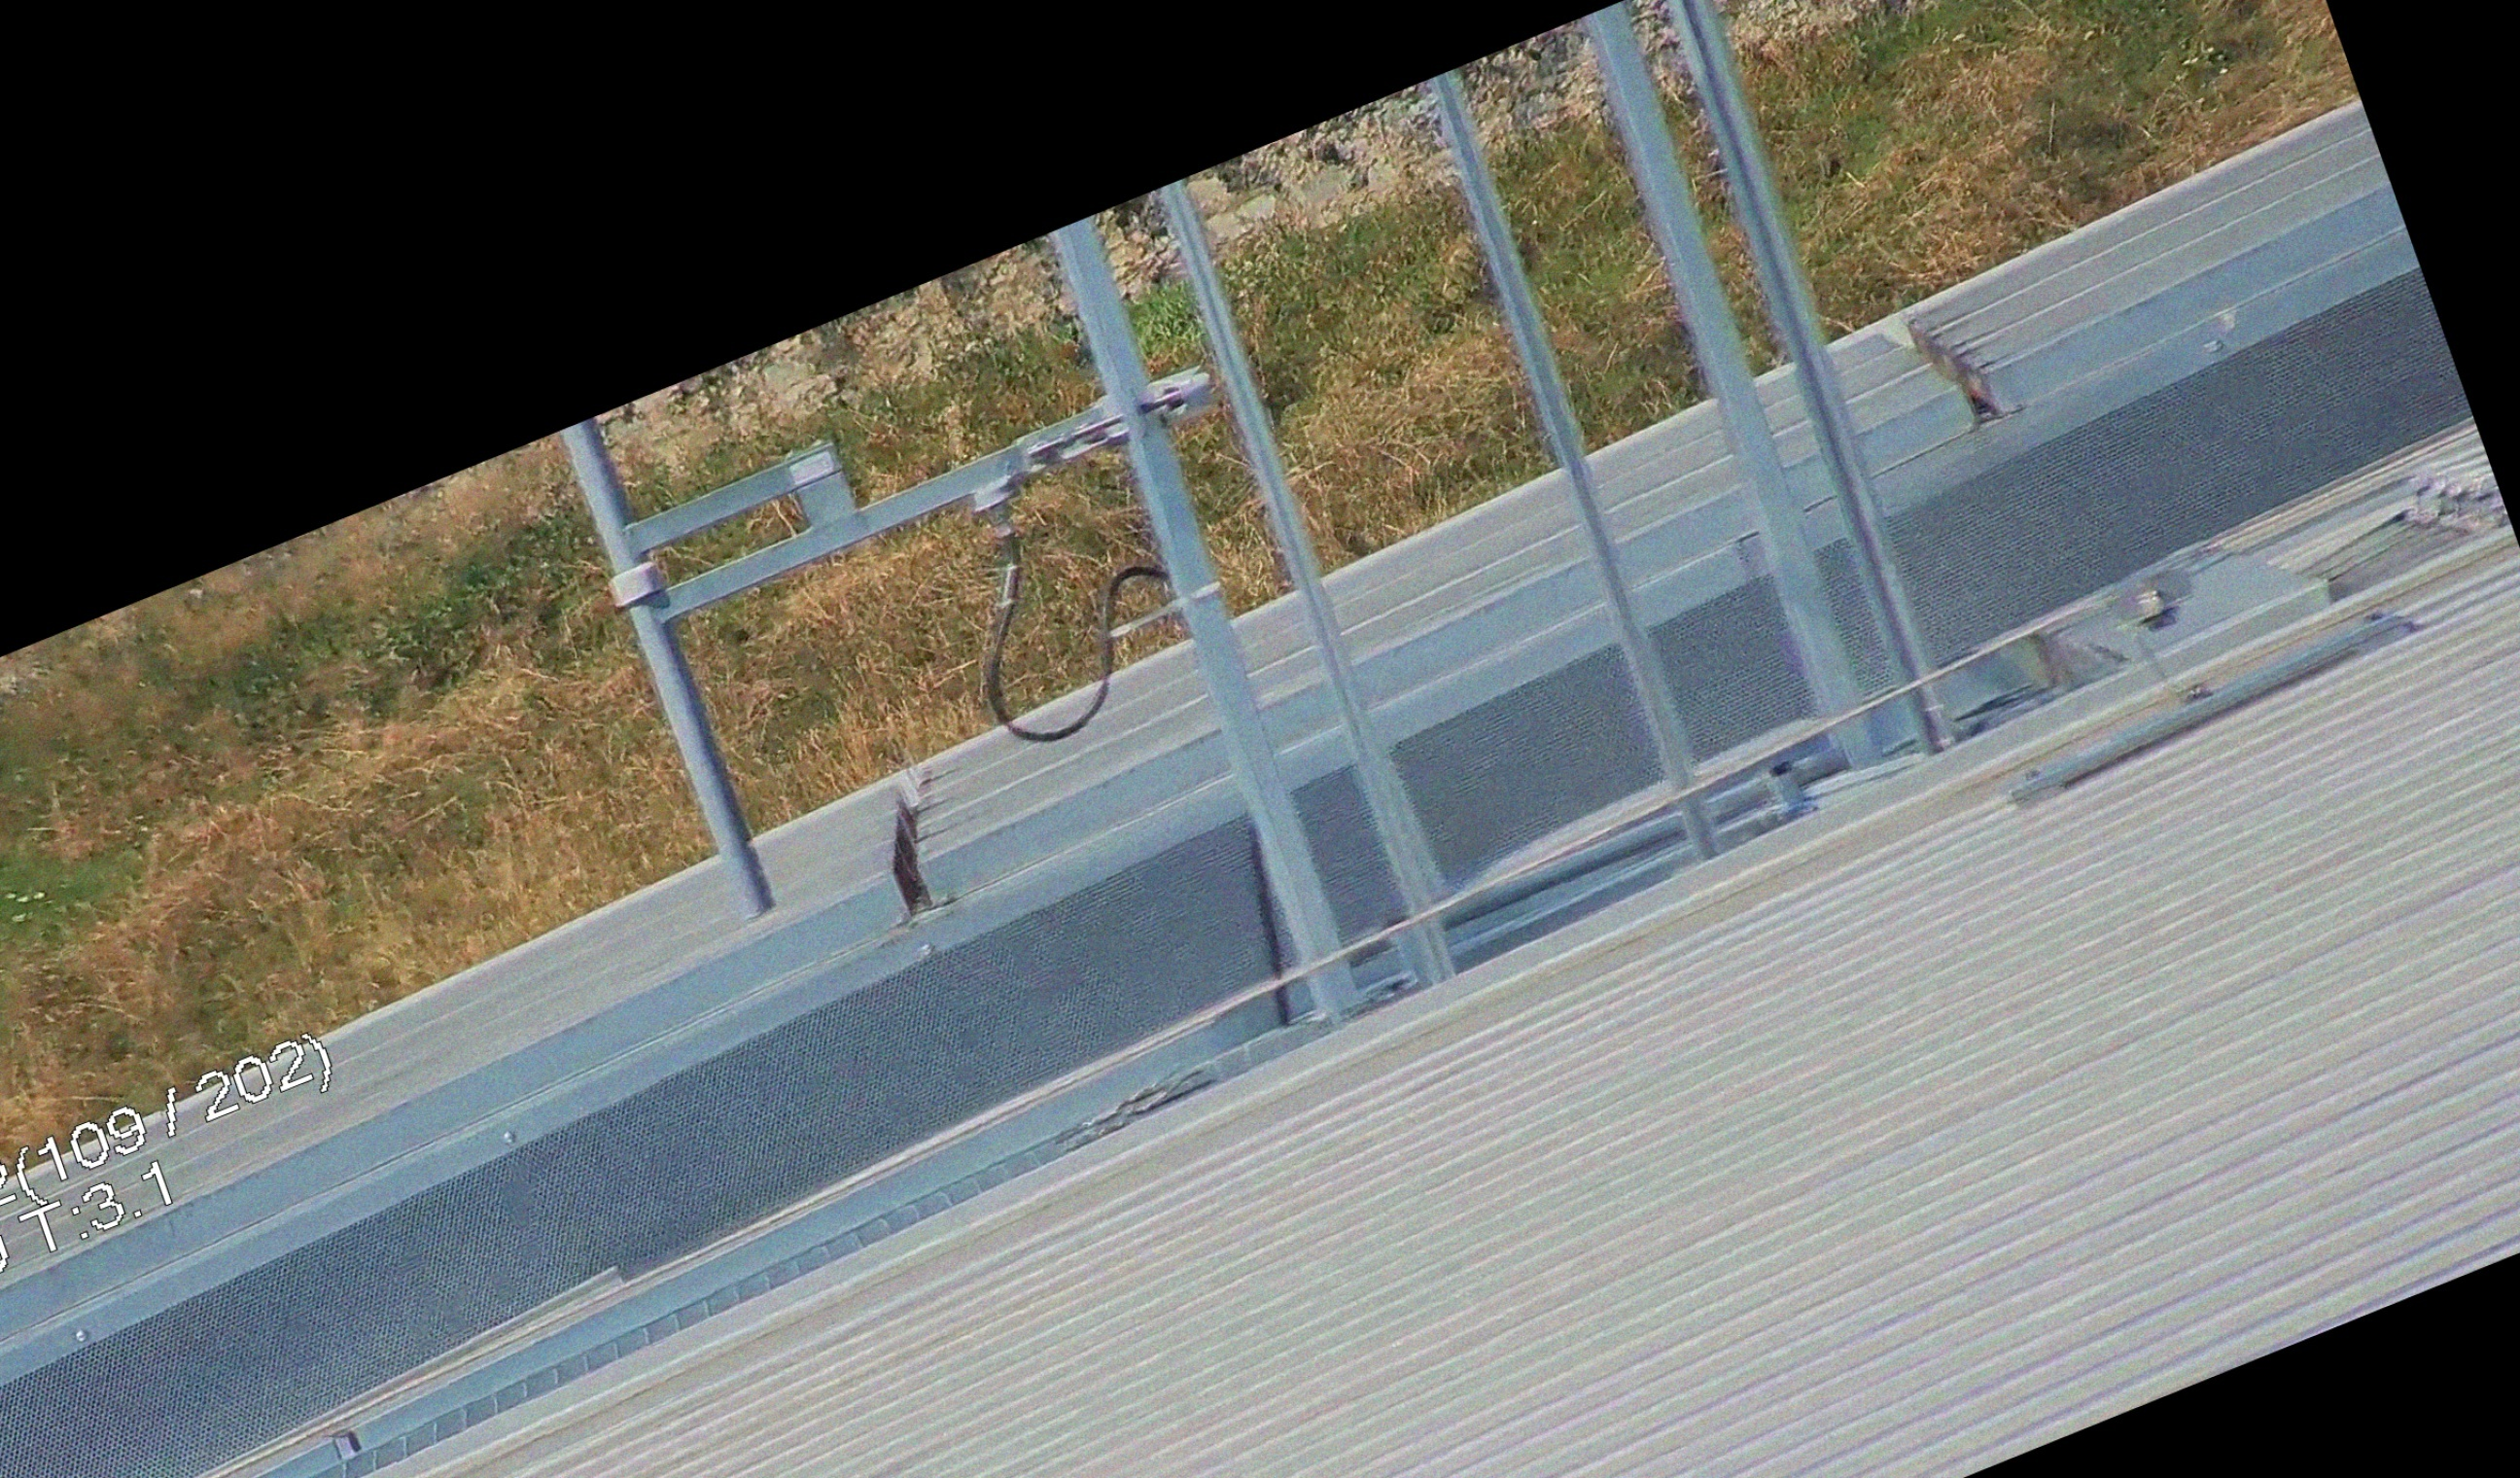Other: (844, 758, 972, 927)
